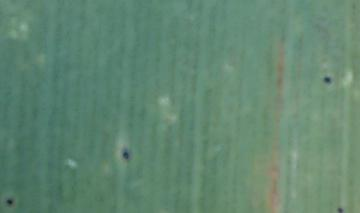tarspot: (122, 149, 130, 160), (6, 198, 14, 206), (323, 76, 331, 84), (337, 207, 345, 213)
